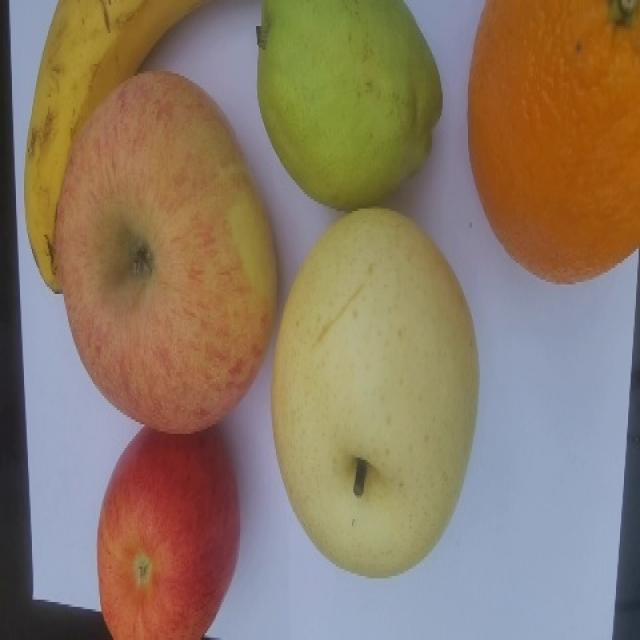Apple: (50, 68, 278, 435), (96, 424, 240, 639)
Orange: (466, 0, 639, 285)
